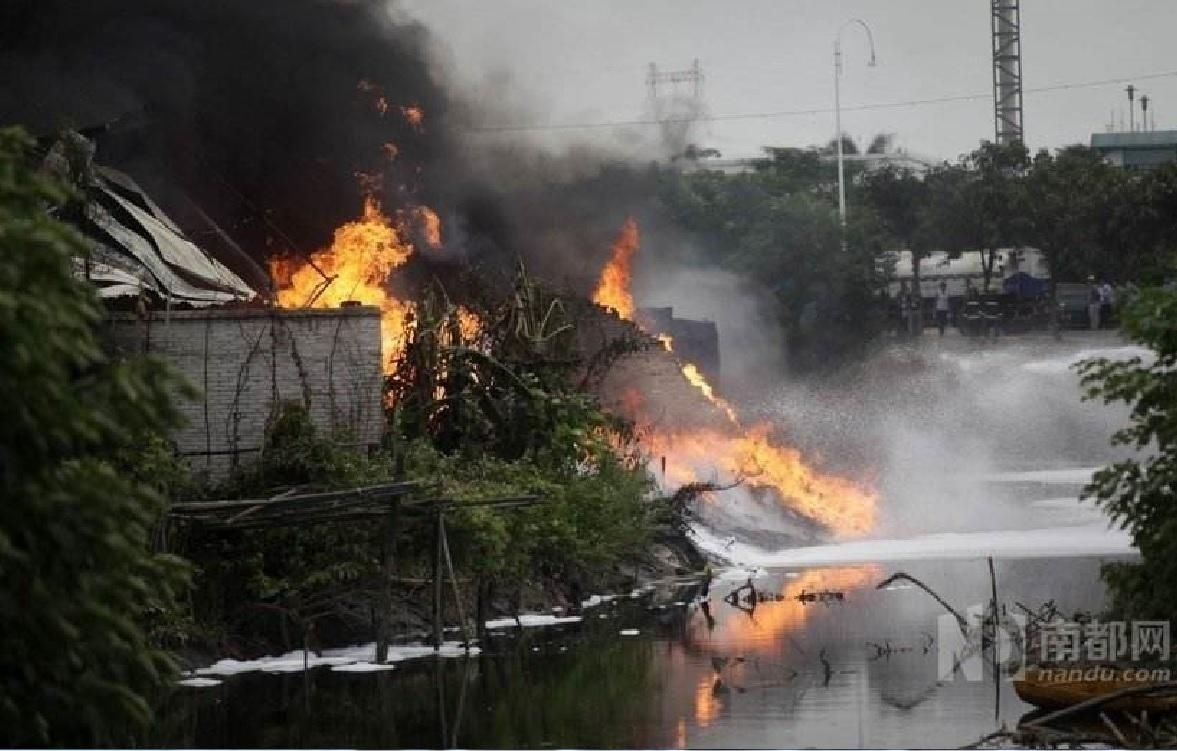fire: (594, 266, 885, 630), (264, 194, 486, 405), (590, 217, 642, 314)
